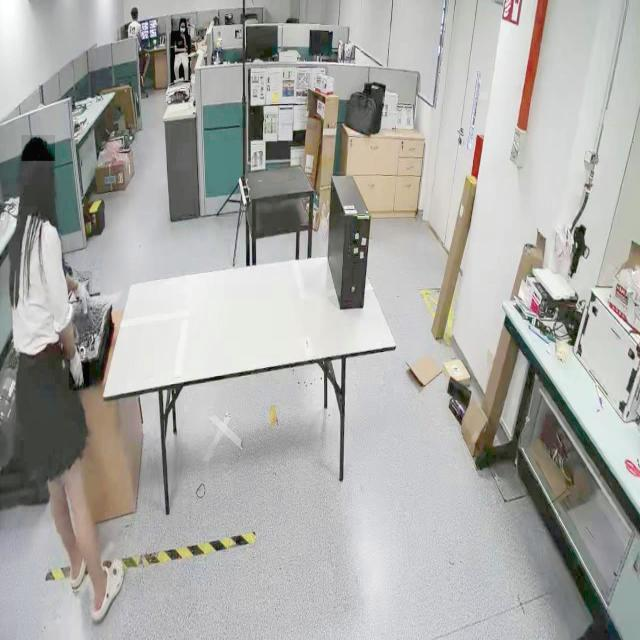face_mask: (178, 22, 186, 35)
hand_glove: (68, 347, 90, 391), (76, 271, 92, 311)
head_nohelmet: (21, 135, 55, 162), (130, 6, 138, 12), (180, 16, 188, 21)
person: (0, 141, 86, 545), (170, 19, 190, 88)
